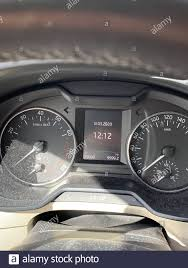Digital_Meter: (80, 110, 121, 161)
